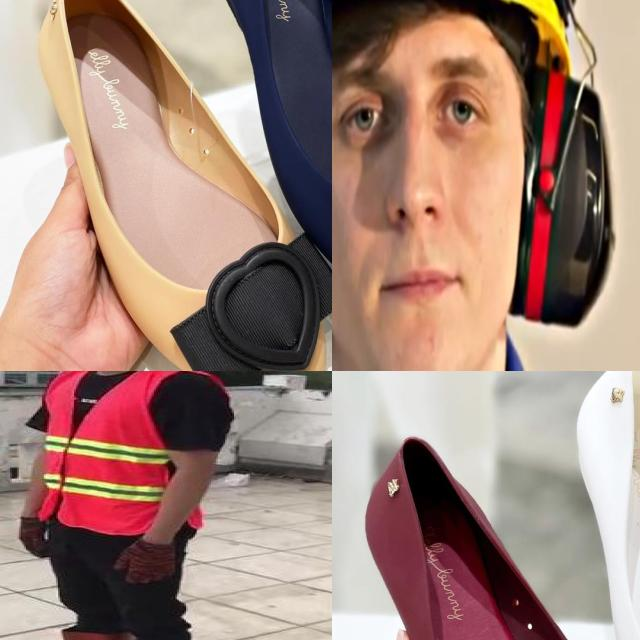Ear-protection: (332, 0, 613, 371)
Sandals: (1, 0, 332, 371), (337, 425, 640, 640), (171, 0, 332, 336), (559, 371, 640, 640)
hand_glove: (113, 540, 177, 584), (15, 516, 49, 559)
person: (0, 371, 238, 640)
vest: (35, 371, 211, 535)
